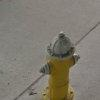Hydrant: (32, 19, 83, 100)
